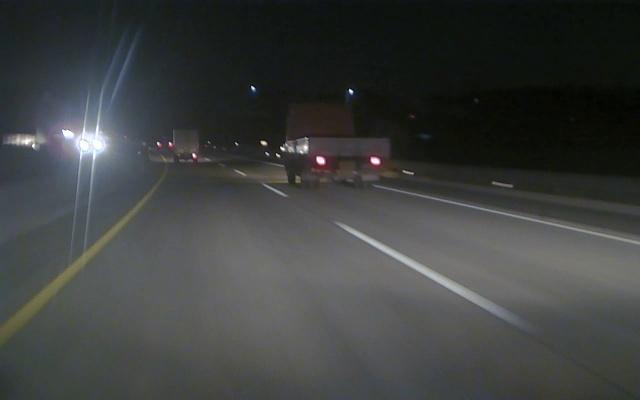lane: (269, 189, 549, 345), (4, 191, 151, 344), (389, 186, 640, 246)
